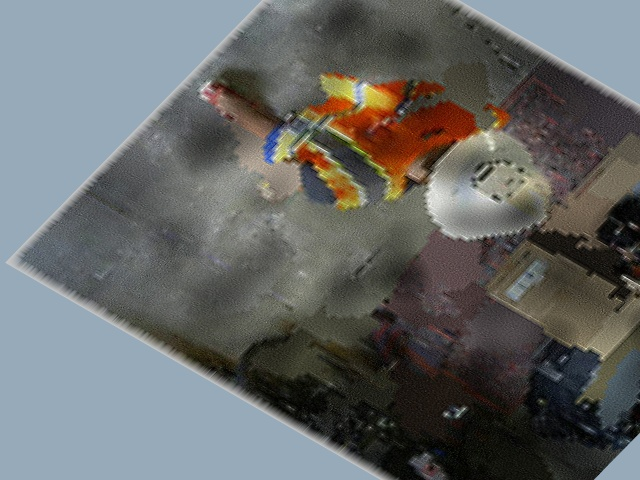one: (464, 152, 532, 205)
